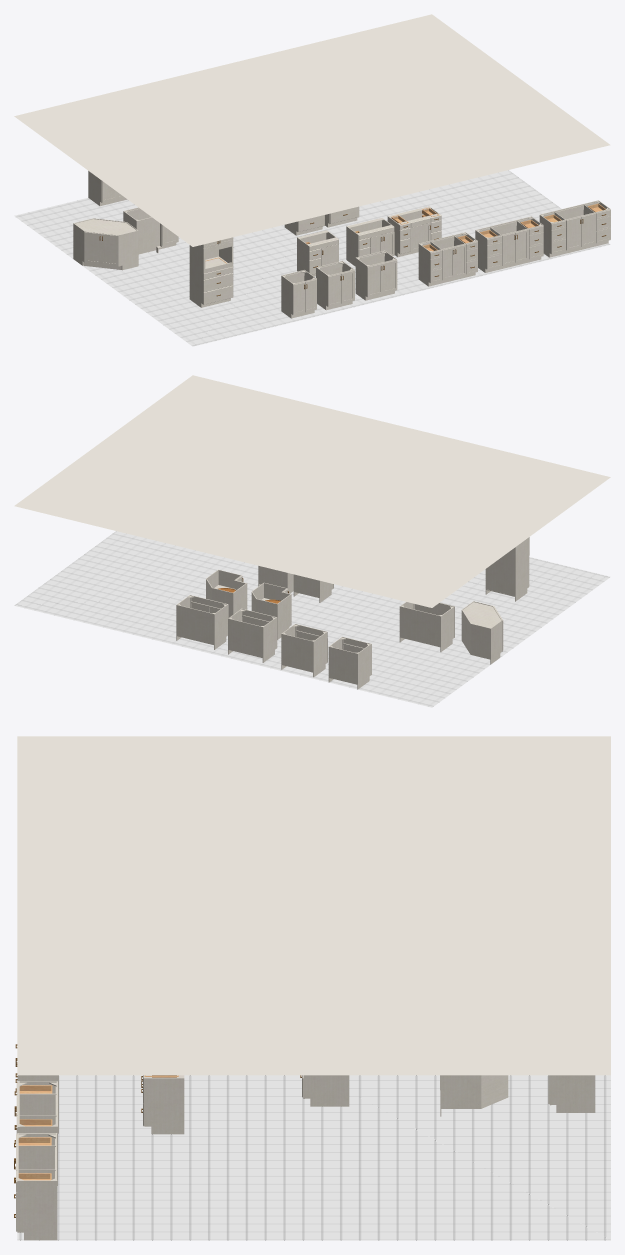
The model's file is Misc_B_Cab.dae.
3 views of the same model, one above another, from view 1: azimuth 30°, elevation 25°; view 2: azimuth 150°, elevation 25°; view 3: azimuth 270°, elevation 25° (orthographic). The views are drawn at different scales.
Visible parts, largest first — view 1: Ceiling, Floor, DCB42 (NCSB42) (×2), MP3093, BBC42L-FD; view 2: Ceiling, Floor, BBC42L-FD (×2), MP3093 (×2), SB39 (×2), SB36 (×2), SB33 (×2), SB30 (×2), DCB42 (NCSB42) (×2), LS33L, BMC27, BMC30; view 3: Ceiling, Floor, VSD60 (×2), V4221, LS36L (×2), SB39, BMC30, VSD57.
Part boxes in pixels (x1,y1,x2,y2): Ceiling: (14, 14, 610, 246); Floor: (14, 170, 610, 346); DCB42 (NCSB42) (×2): (75, 219, 138, 270); MP3093: (189, 244, 203, 307); BBC42L-FD: (138, 218, 159, 249); Ceiling: (14, 375, 610, 607); Floor: (14, 531, 610, 707); BBC42L-FD (×2): (400, 606, 454, 651); MP3093 (×2): (486, 537, 529, 601); SB39 (×2): (177, 604, 227, 649); SB36 (×2): (228, 617, 276, 662); SB33 (×2): (282, 632, 326, 677); SB30 (×2): (329, 644, 371, 689); DCB42 (NCSB42) (×2): (463, 602, 501, 659); LS33L: (277, 594, 290, 639); BMC27: (294, 574, 319, 597); BMC30: (259, 566, 286, 587); Ceiling: (17, 736, 610, 1075); Floor: (17, 1075, 610, 1240); VSD60 (×2): (18, 1145, 57, 1240); V4221: (144, 1077, 184, 1134); LS36L (×2): (441, 1075, 508, 1108); SB39: (551, 1075, 595, 1112); BMC30: (305, 1075, 349, 1106); VSD57: (19, 1093, 56, 1115).
Size of the model in its own units: 422 by 314 by 96.
12 materials, 7 textured.
